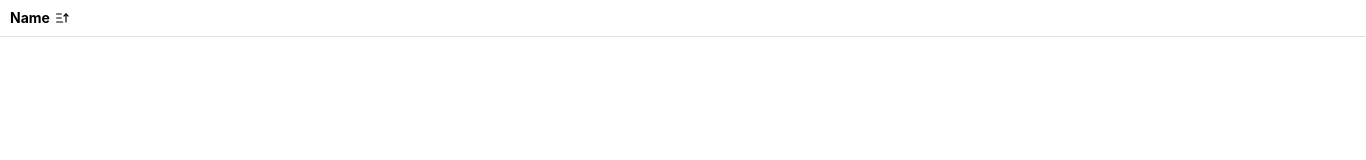
Test: AdminSortableHeader › announces ascending and descending states
What coordinates should you click on to do the following:
click the button with aria-label "name sorted ascending"
I would click on:
 (40, 18)
Its box is [10,8,70,28].
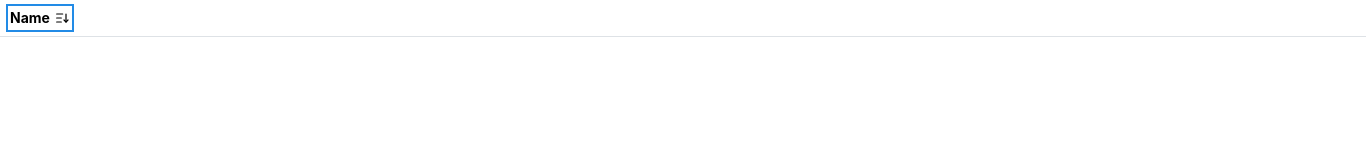
Check: the button with aria-label "name sorted descending" is shown, box [10,8,70,28]
